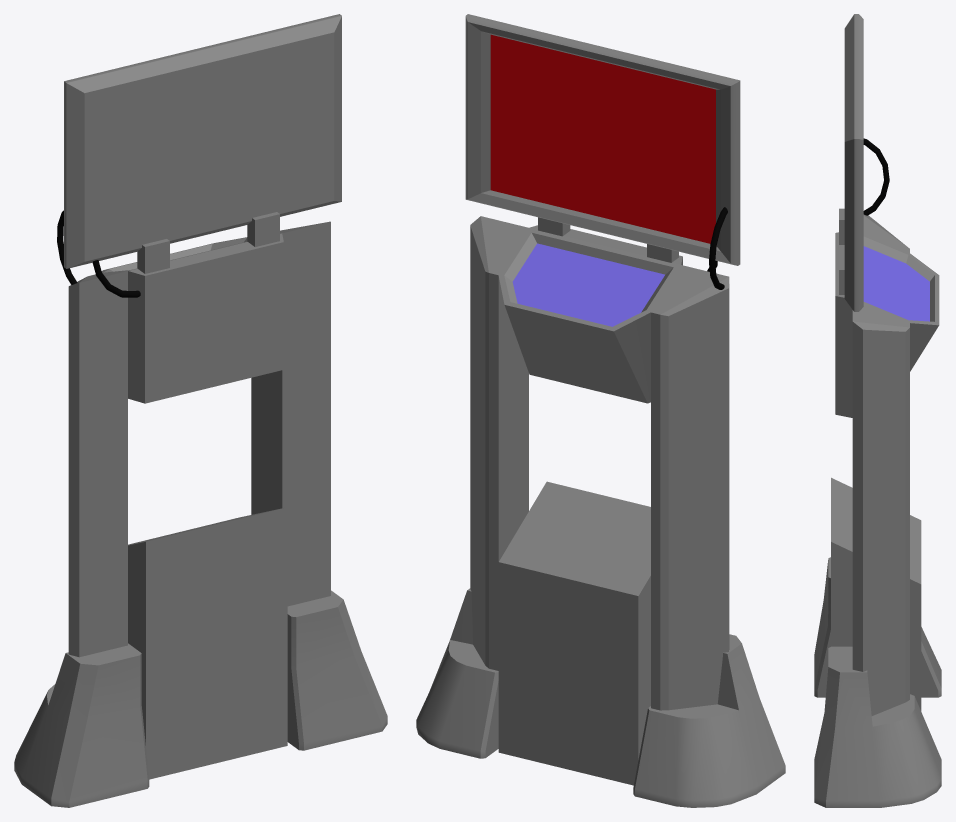
The model's file is terminal.fbx.
3 views of the same model, side by side, from view 1: azimuth 30°, elevation 25°; view 2: azimuth 150°, elevation 25°; view 3: azimuth 270°, elevation 25° (orthographic). The views are drawn at different scales.
Parts seen in each view (by area): view 1: Terminal1; view 2: Terminal1; view 3: Terminal1.
Part boxes in pixels (x1,y1,x2,y2): Terminal1: [14, 14, 387, 807]; Terminal1: [416, 14, 785, 807]; Terminal1: [814, 14, 941, 807].
Size of what is drawn, in the model's own units: 84.99 by 170 by 30.
